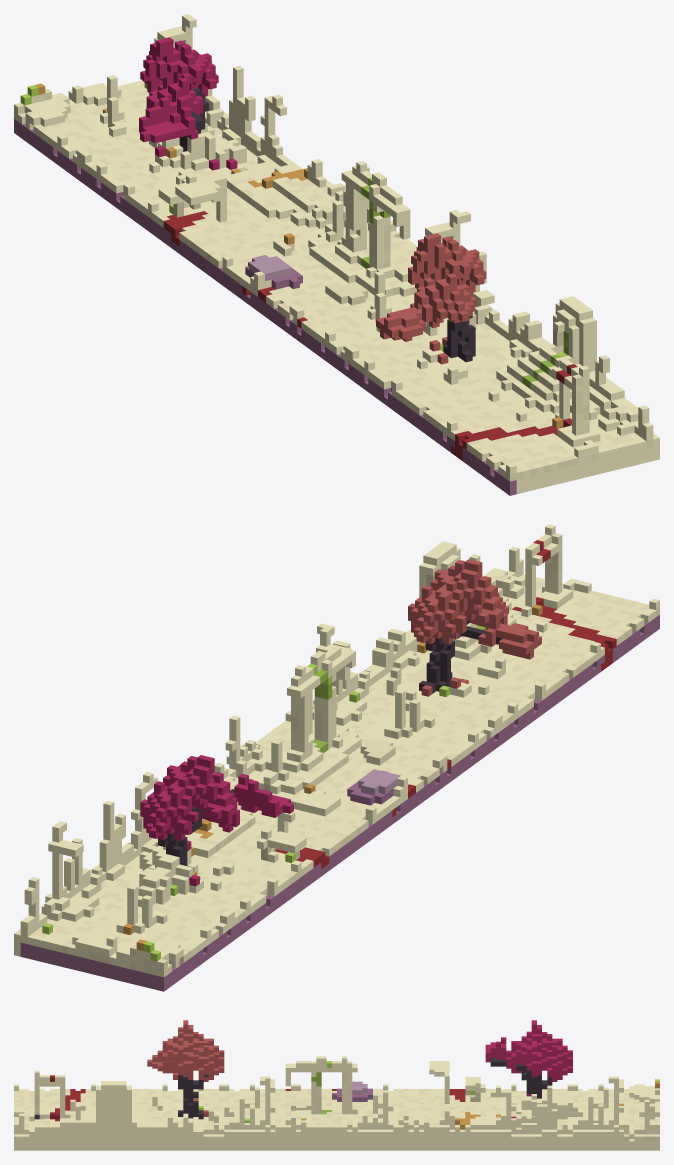
The model's file is Planet2Level.obj.
3 renders of one model, top to bottom at view 1: azimuth 30°, elevation 25°; view 2: azimuth 150°, elevation 25°; view 3: azimuth 270°, elevation 25°, orthographic. The views are drawn at different scales.
Size of the model in its own units: 2.2 by 2.1 by 12.6.
1 material, 1 textured.
